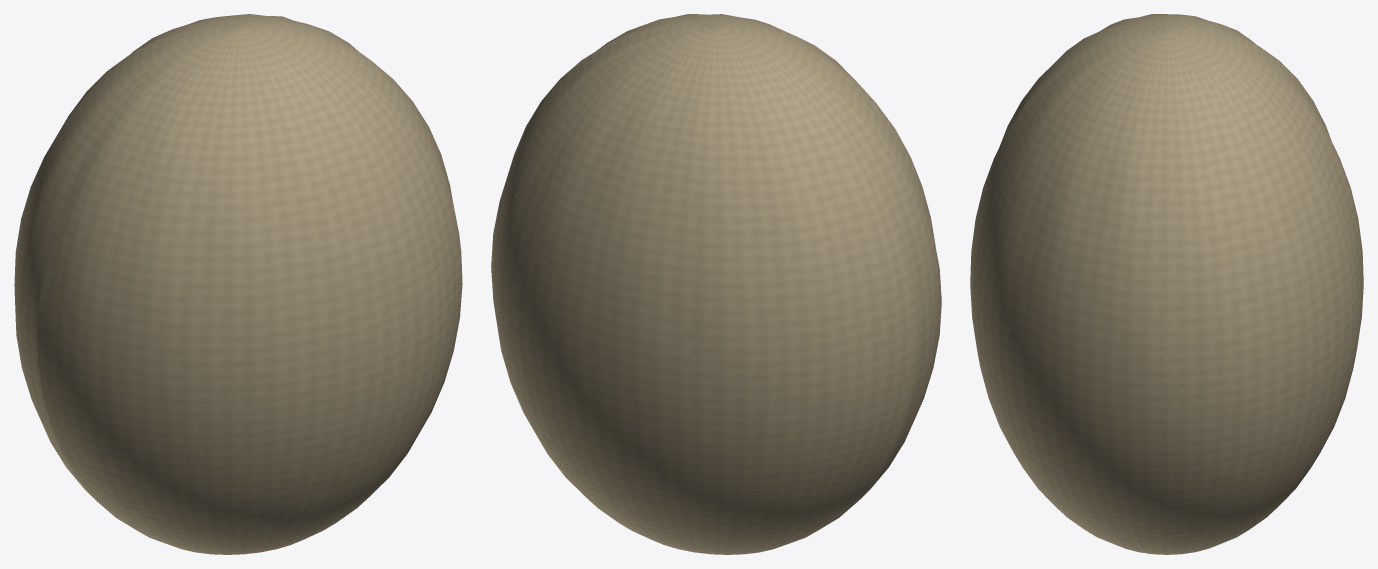
File: prop-sack.gltf
The picture shows the model from 3 angles, left to right: view 1: azimuth 30°, elevation 25°; view 2: azimuth 150°, elevation 25°; view 3: azimuth 270°, elevation 25°; orthographic projection.
Parts seen in each view (by area): view 1: sack; view 2: sack; view 3: sack.
Boxes of the visible parts, x1=… form: sack: x1=14, y1=14, x2=462, y2=554; sack: x1=491, y1=14, x2=941, y2=554; sack: x1=970, y1=14, x2=1363, y2=554.
Size of the model in its own units: 0.28 by 0.34 by 0.24.
1 material, 1 textured.
